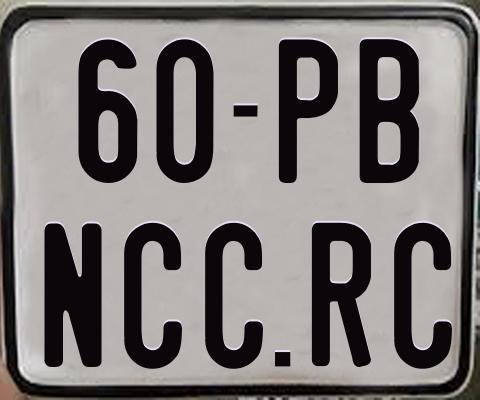0: (155, 36, 218, 183)
6: (75, 38, 138, 183)
B: (358, 39, 422, 185)
C: (122, 220, 185, 369), (392, 221, 450, 372), (205, 220, 263, 367)
N: (43, 223, 106, 371)
P: (278, 36, 342, 186)
R: (309, 221, 370, 369)
